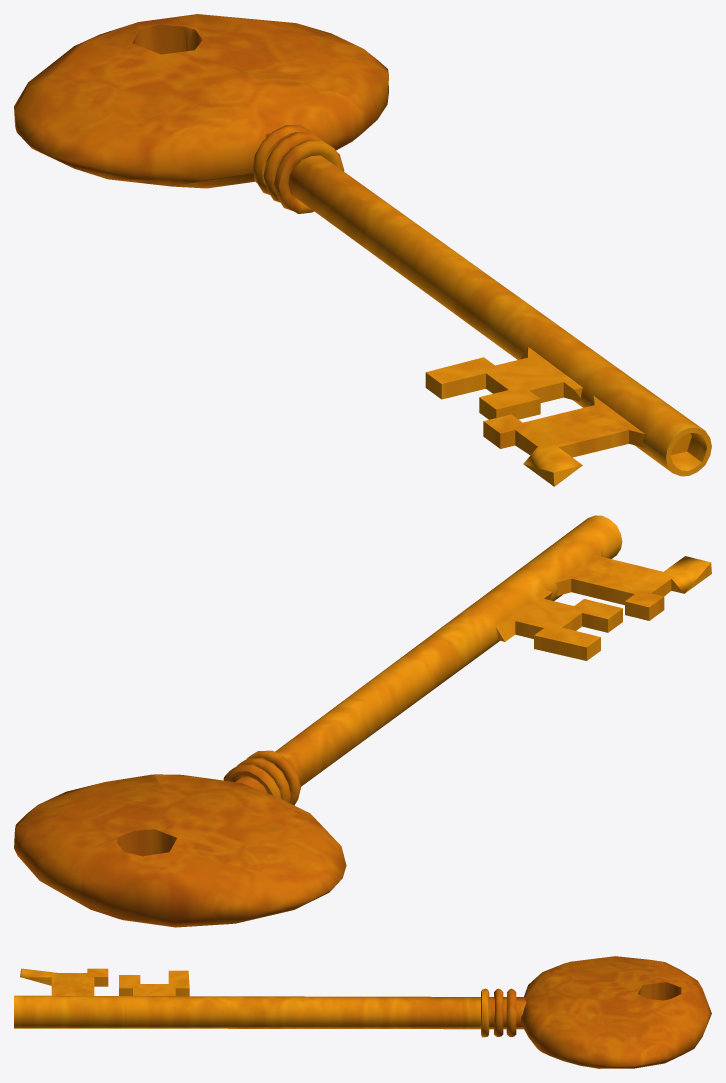
File: Key.FBX
3 renders of one model, top to bottom at view 1: azimuth 30°, elevation 25°; view 2: azimuth 150°, elevation 25°; view 3: azimuth 270°, elevation 25°, orthographic. The views are drawn at different scales.
Parts seen in each view (by area): view 1: key; view 2: key; view 3: key.
Boxes of the visible parts, box(x1,y1,x2,y2) form: key: box(14, 14, 711, 486); key: box(14, 515, 711, 927); key: box(14, 956, 711, 1068).
Size of the model in its own units: 12.69 by 2.51 by 35.44.
1 material, 1 textured.
